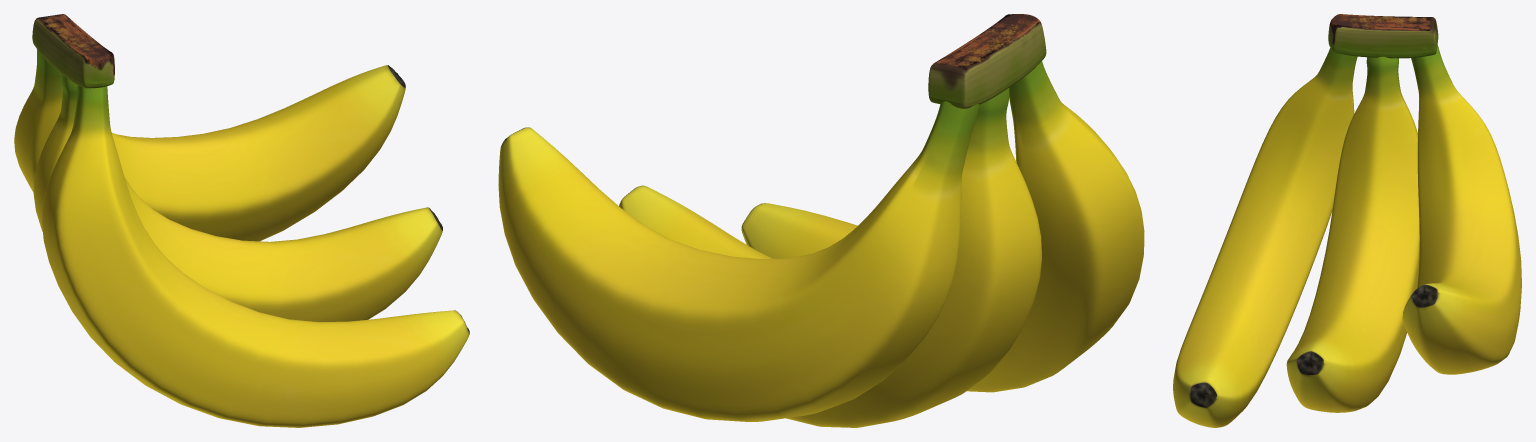
File: bananas.glb
3 views of the same model, side by side, from view 1: azimuth 30°, elevation 25°; view 2: azimuth 150°, elevation 25°; view 3: azimuth 270°, elevation 25° (orthographic). The views are drawn at different scales.
Visible parts, largest first — view 1: banana; view 2: banana; view 3: banana.
Part boxes in pixels (left/top/right/bottom): banana: left=14, top=14, right=469, bottom=427; banana: left=498, top=14, right=1144, bottom=427; banana: left=1173, top=14, right=1521, bottom=427.
Bounding box in the file's own units: 2.39 × 1.96 × 1.94.
Materials: 1 (1 with a texture image).
